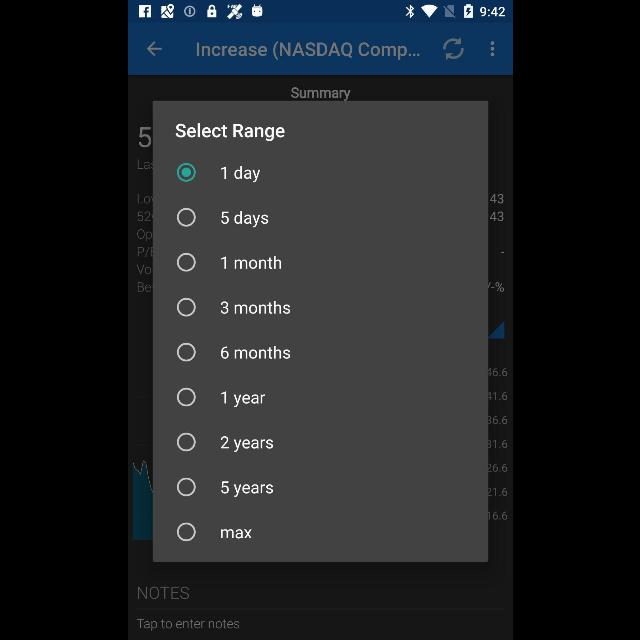checkbox: (176, 522, 194, 542), (177, 253, 196, 271), (177, 343, 196, 361), (177, 433, 196, 451), (176, 163, 194, 181), (176, 208, 194, 226), (176, 298, 194, 316), (176, 388, 194, 406), (176, 478, 194, 496)
icon: (442, 38, 462, 61), (146, 41, 162, 57), (490, 41, 494, 57)
panel: (152, 102, 488, 562)
text: (195, 40, 418, 60), (174, 123, 284, 141), (136, 619, 238, 631), (220, 301, 290, 315), (220, 346, 290, 359), (220, 210, 268, 228), (221, 256, 281, 270), (220, 436, 272, 452), (221, 481, 273, 497), (220, 391, 264, 407), (138, 586, 188, 600), (220, 167, 260, 183), (220, 529, 252, 539)
uppertaskbar: (128, 1, 512, 23)
